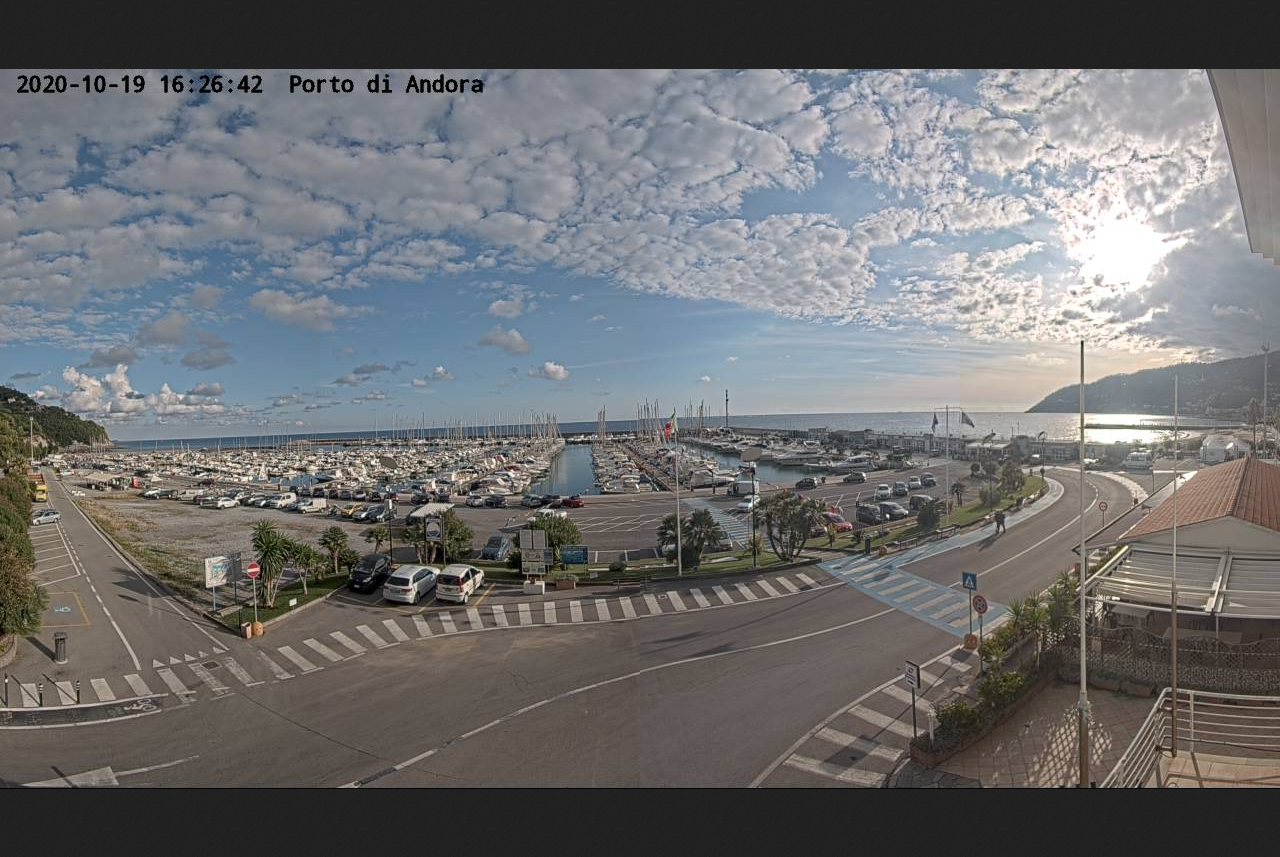maybe: (955, 408, 979, 432), (663, 411, 679, 441)
no: (927, 408, 944, 436)
